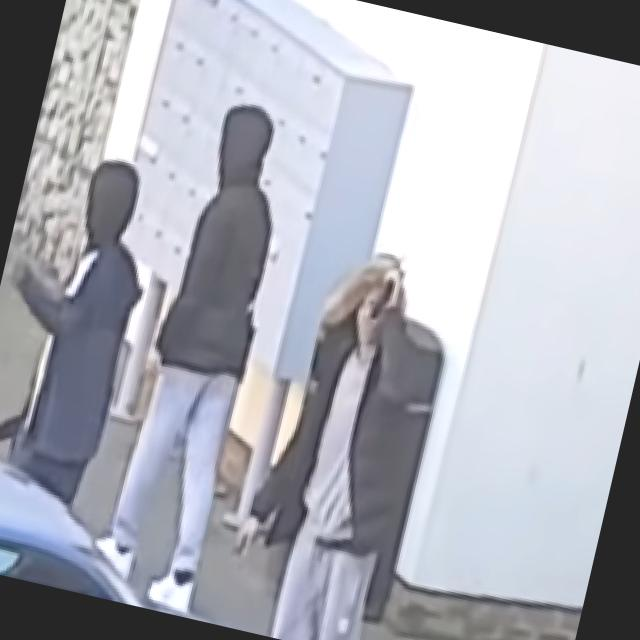person: (86, 89, 308, 612), (209, 233, 462, 640), (0, 141, 172, 514)
